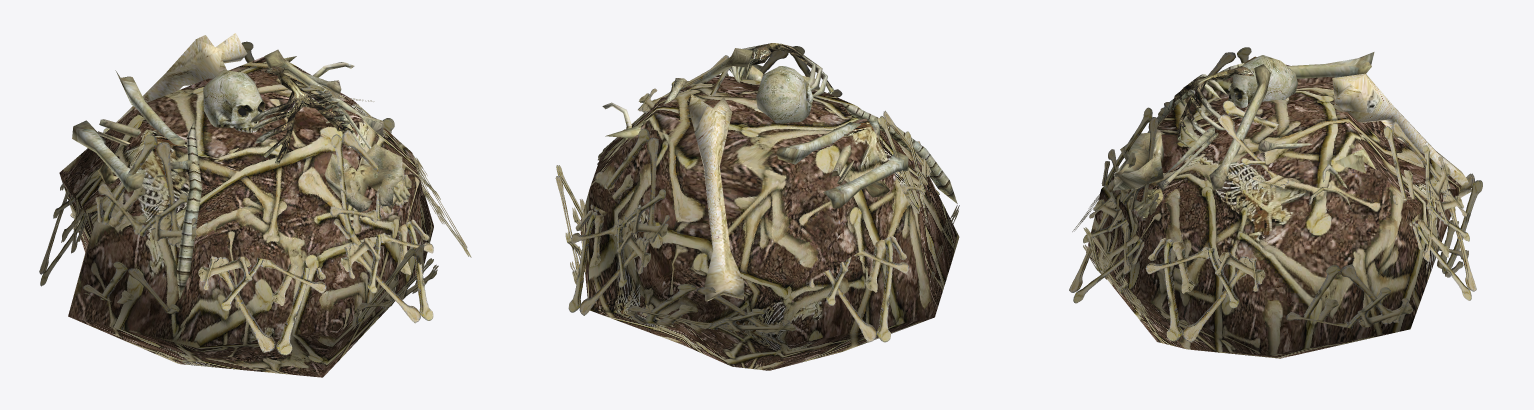
The model's file is poi_all_lair_bones_l0.fbx.
The picture shows the model from 3 angles, left to right: view 1: azimuth 30°, elevation 25°; view 2: azimuth 150°, elevation 25°; view 3: azimuth 270°, elevation 25°; orthographic projection. The views are drawn at different scales.
Parts seen in each view (by area): view 1: mesh_node; view 2: mesh_node; view 3: mesh_node.
Part boxes in pixels (x1,y1,x2,y2): mesh_node: [39, 33, 471, 377]; mesh_node: [555, 43, 959, 370]; mesh_node: [1069, 47, 1482, 358].
Size of the model in its own units: 1.65 by 1.16 by 1.75.
